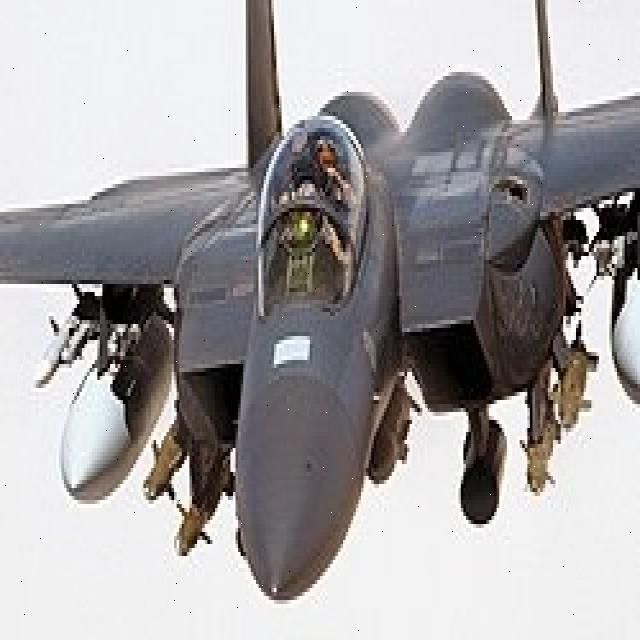F15: (6, 4, 640, 630)
